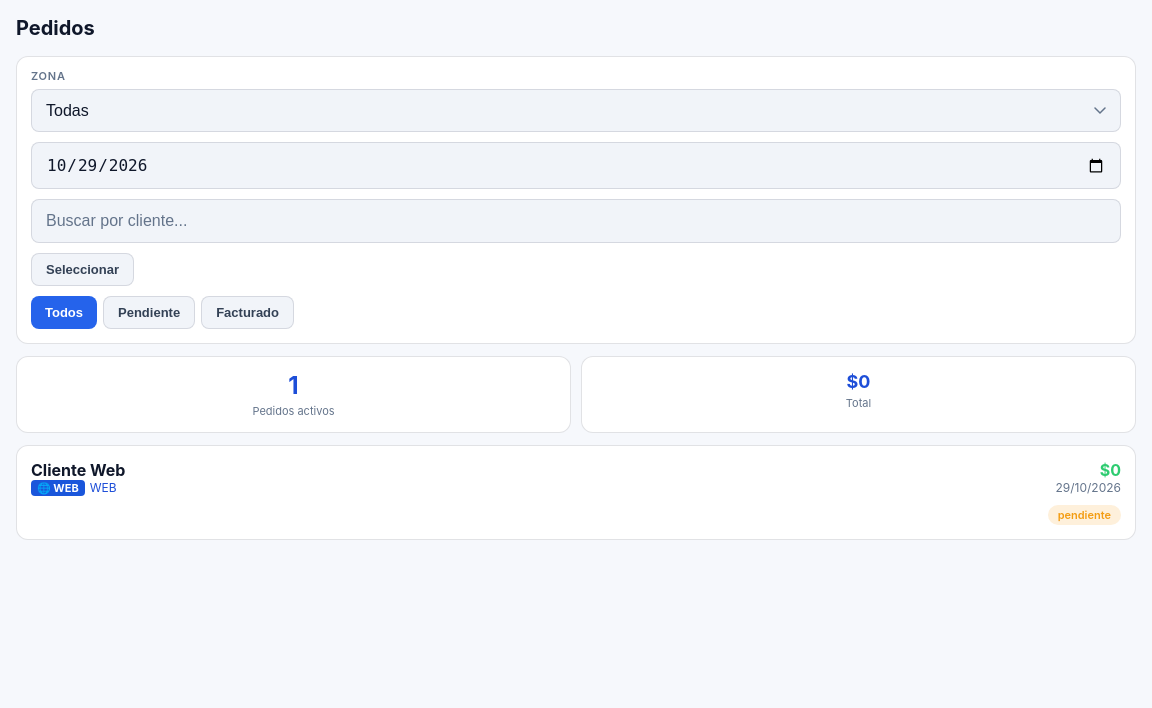
it: AC-VEN-3 ListaPedidos: asignar vendedor a un pedido web › AC-VEN-3 'Asignar vendedor' en ListaPedidos no muestra dados de baja
Click the element that starts with "Cliente Web" at (576, 492), box [16,445,1136,540]
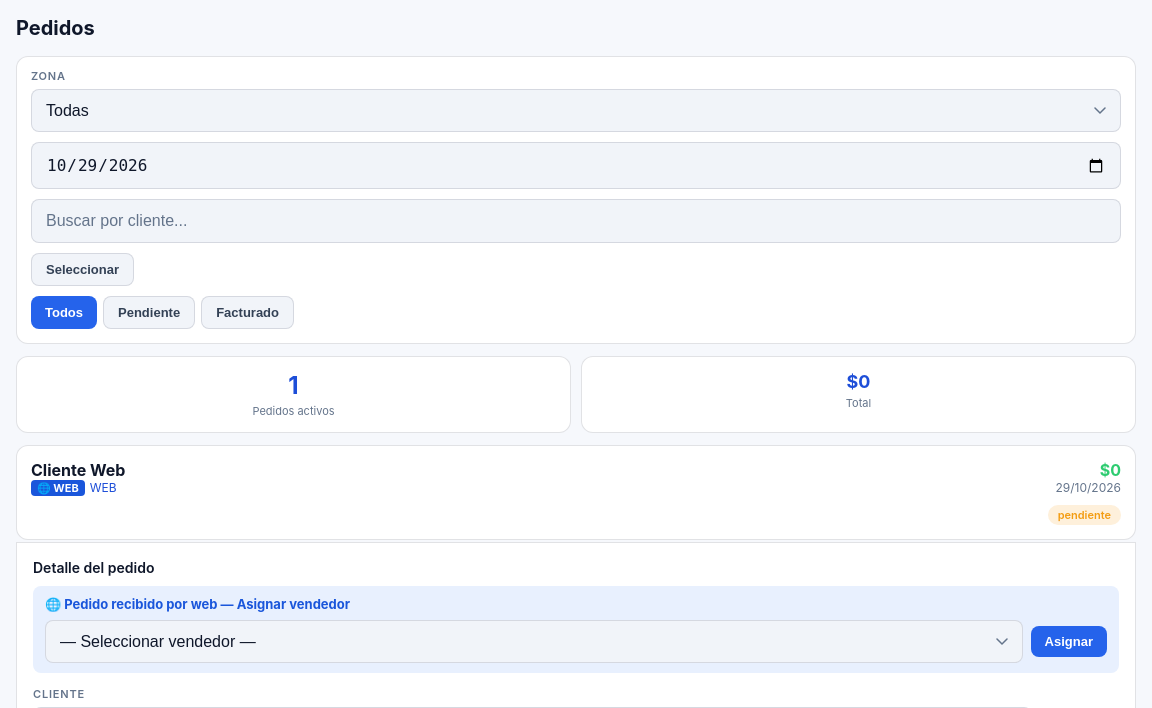
Expected: the text "Asignar vendedor" is shown, [45,596,350,612]
Expected: the dropdown below "Detalle del pedido" is shown, [45,620,1023,663]
